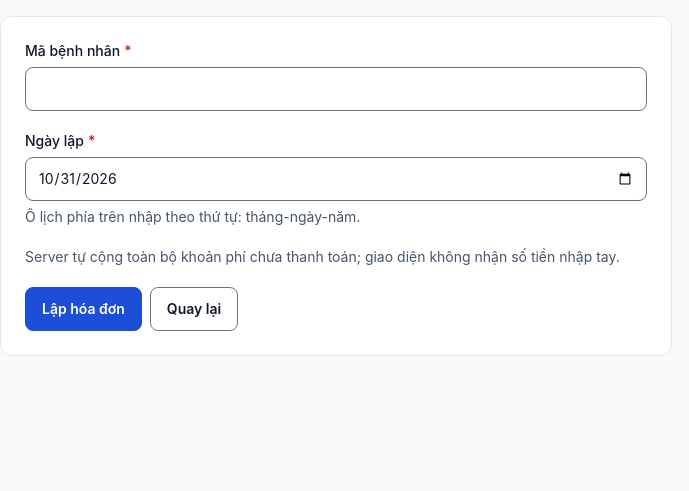
InvoiceForm › shows the server rejection with its correlation id and does not navigate
Type "00000000-0000-4000-8000-000000000001" into the field labelled "Mã bệnh nhân" at (336, 89), box [25,67,647,111]
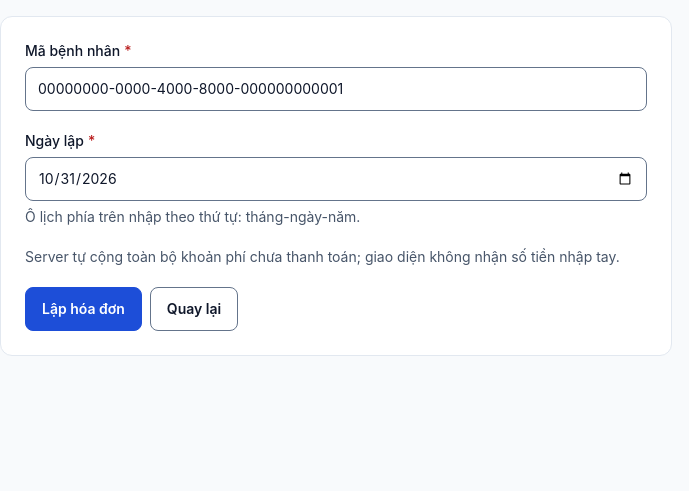
Click the button "Lập hóa đơn" at (83, 309), box [25,287,142,331]
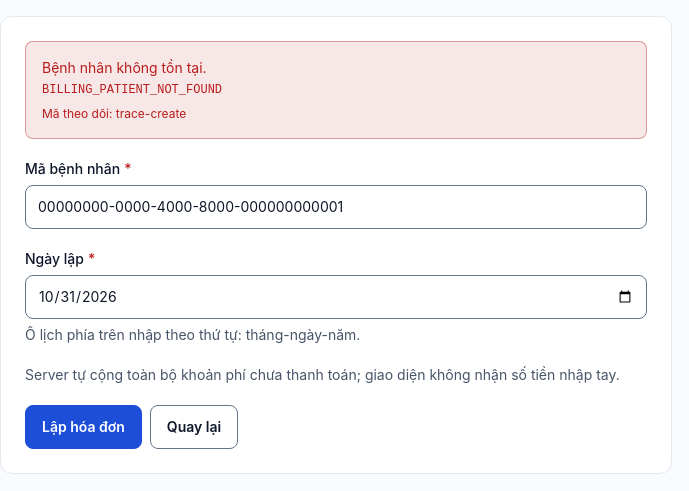
expect the button "Lập hóa đơn" is enabled: met, box [25,405,142,449]
expect the text "trace-create" is shown: met, box [116,106,186,121]
expect the text "Bệnh nhân không tồn tại." is shown: met, box [42,59,207,76]
